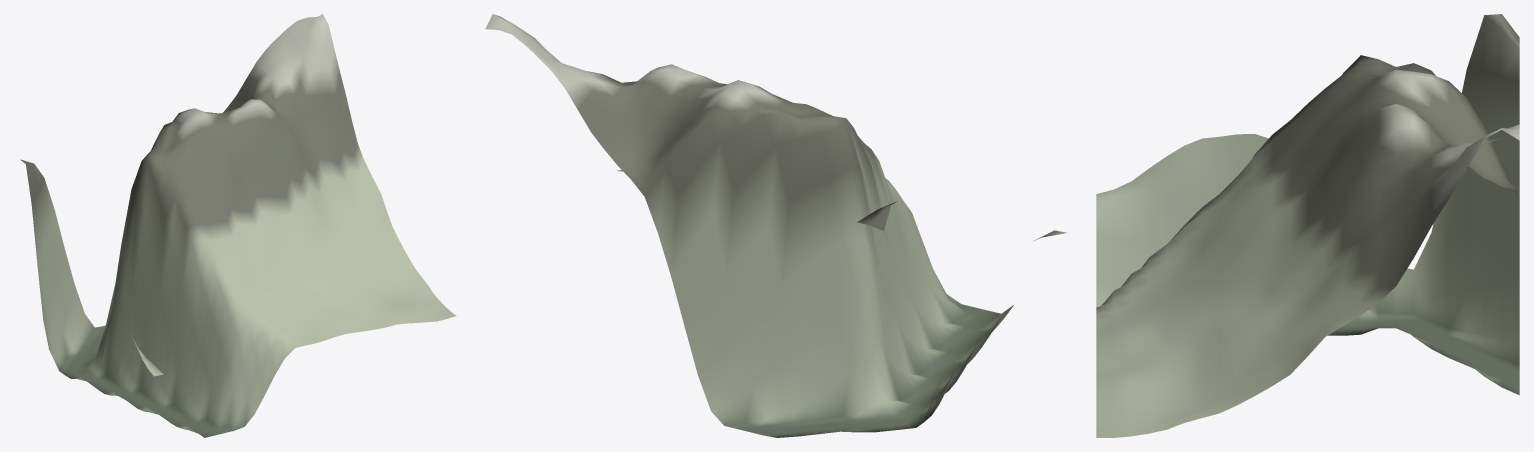
3 views of the same model, side by side, from view 1: azimuth 30°, elevation 25°; view 2: azimuth 150°, elevation 25°; view 3: azimuth 270°, elevation 25° (orthographic). The views are drawn at different scales.
Parts seen in each view (by area): view 1: world-ground/90-24; view 2: world-ground/90-24; view 3: world-ground/90-24.
Boxes of the visible parts, x1,y1,x2,y2 form: world-ground/90-24: (20, 14, 456, 437); world-ground/90-24: (485, 14, 1067, 437); world-ground/90-24: (1096, 14, 1519, 437).
Bounding box in the file's own units: 37.5 × 31.29 × 30.
